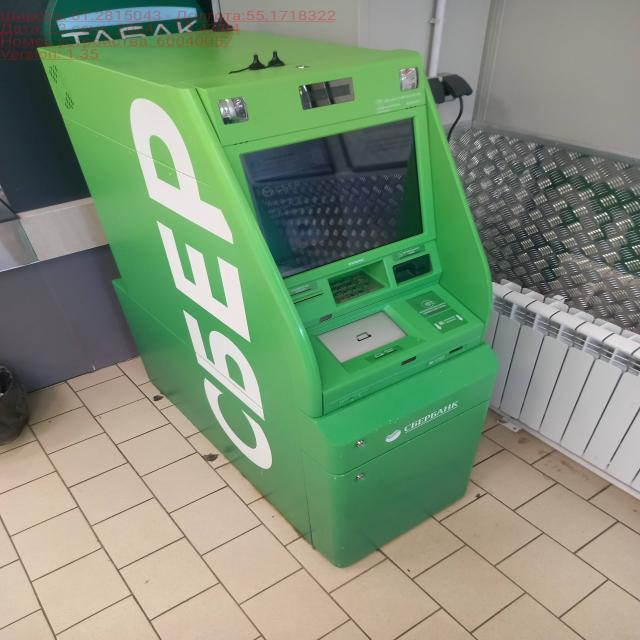bank: (35, 26, 499, 567)
